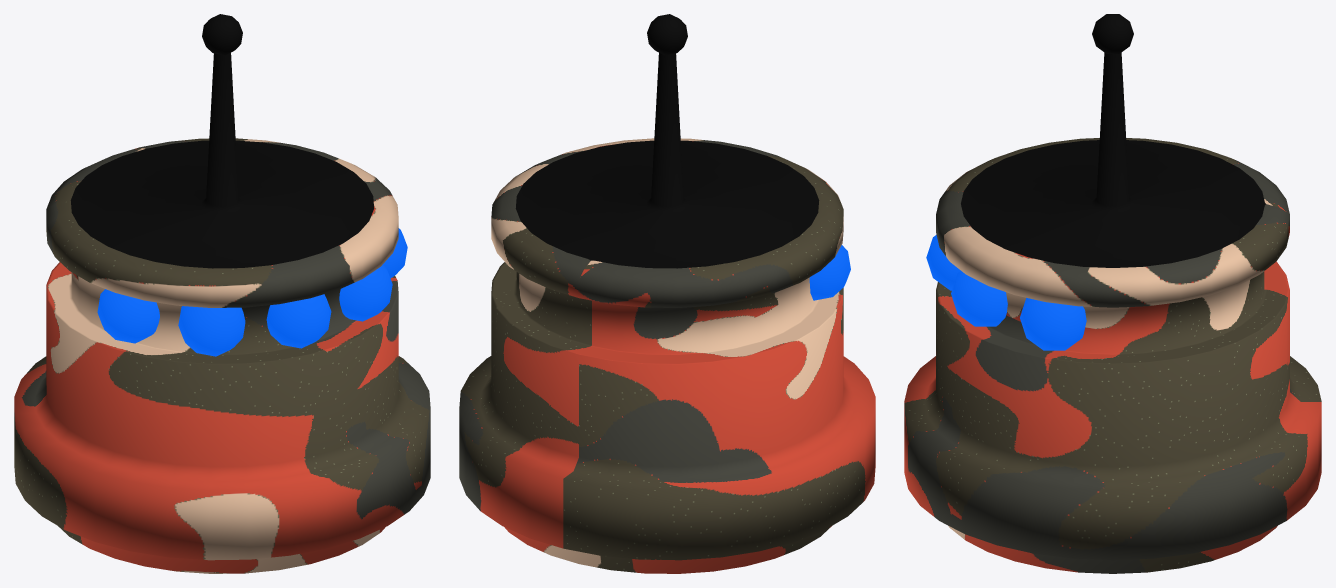
Rendered from turret_laser.glb.
The picture shows the model from 3 angles, left to right: view 1: azimuth 30°, elevation 25°; view 2: azimuth 150°, elevation 25°; view 3: azimuth 270°, elevation 25°; orthographic projection.
Visible parts, largest first — view 1: Turret_laser; view 2: Turret_laser; view 3: Turret_laser.
Boxes of the visible parts, x1,y1,x2,y2 form: Turret_laser: (14,14,430,573); Turret_laser: (459,14,875,573); Turret_laser: (904,14,1321,573).
Bounding box in the file's own units: 1.4 × 1.79 × 1.4.
2 materials, 2 textured.
